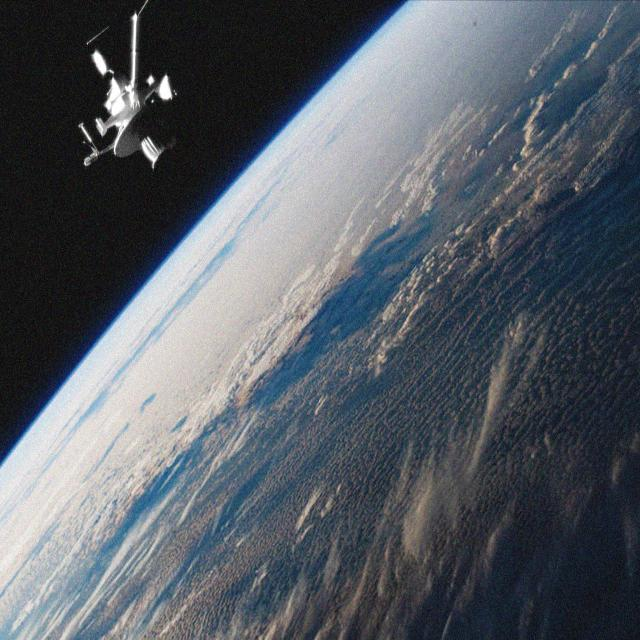satellite: (34, 0, 237, 193)
